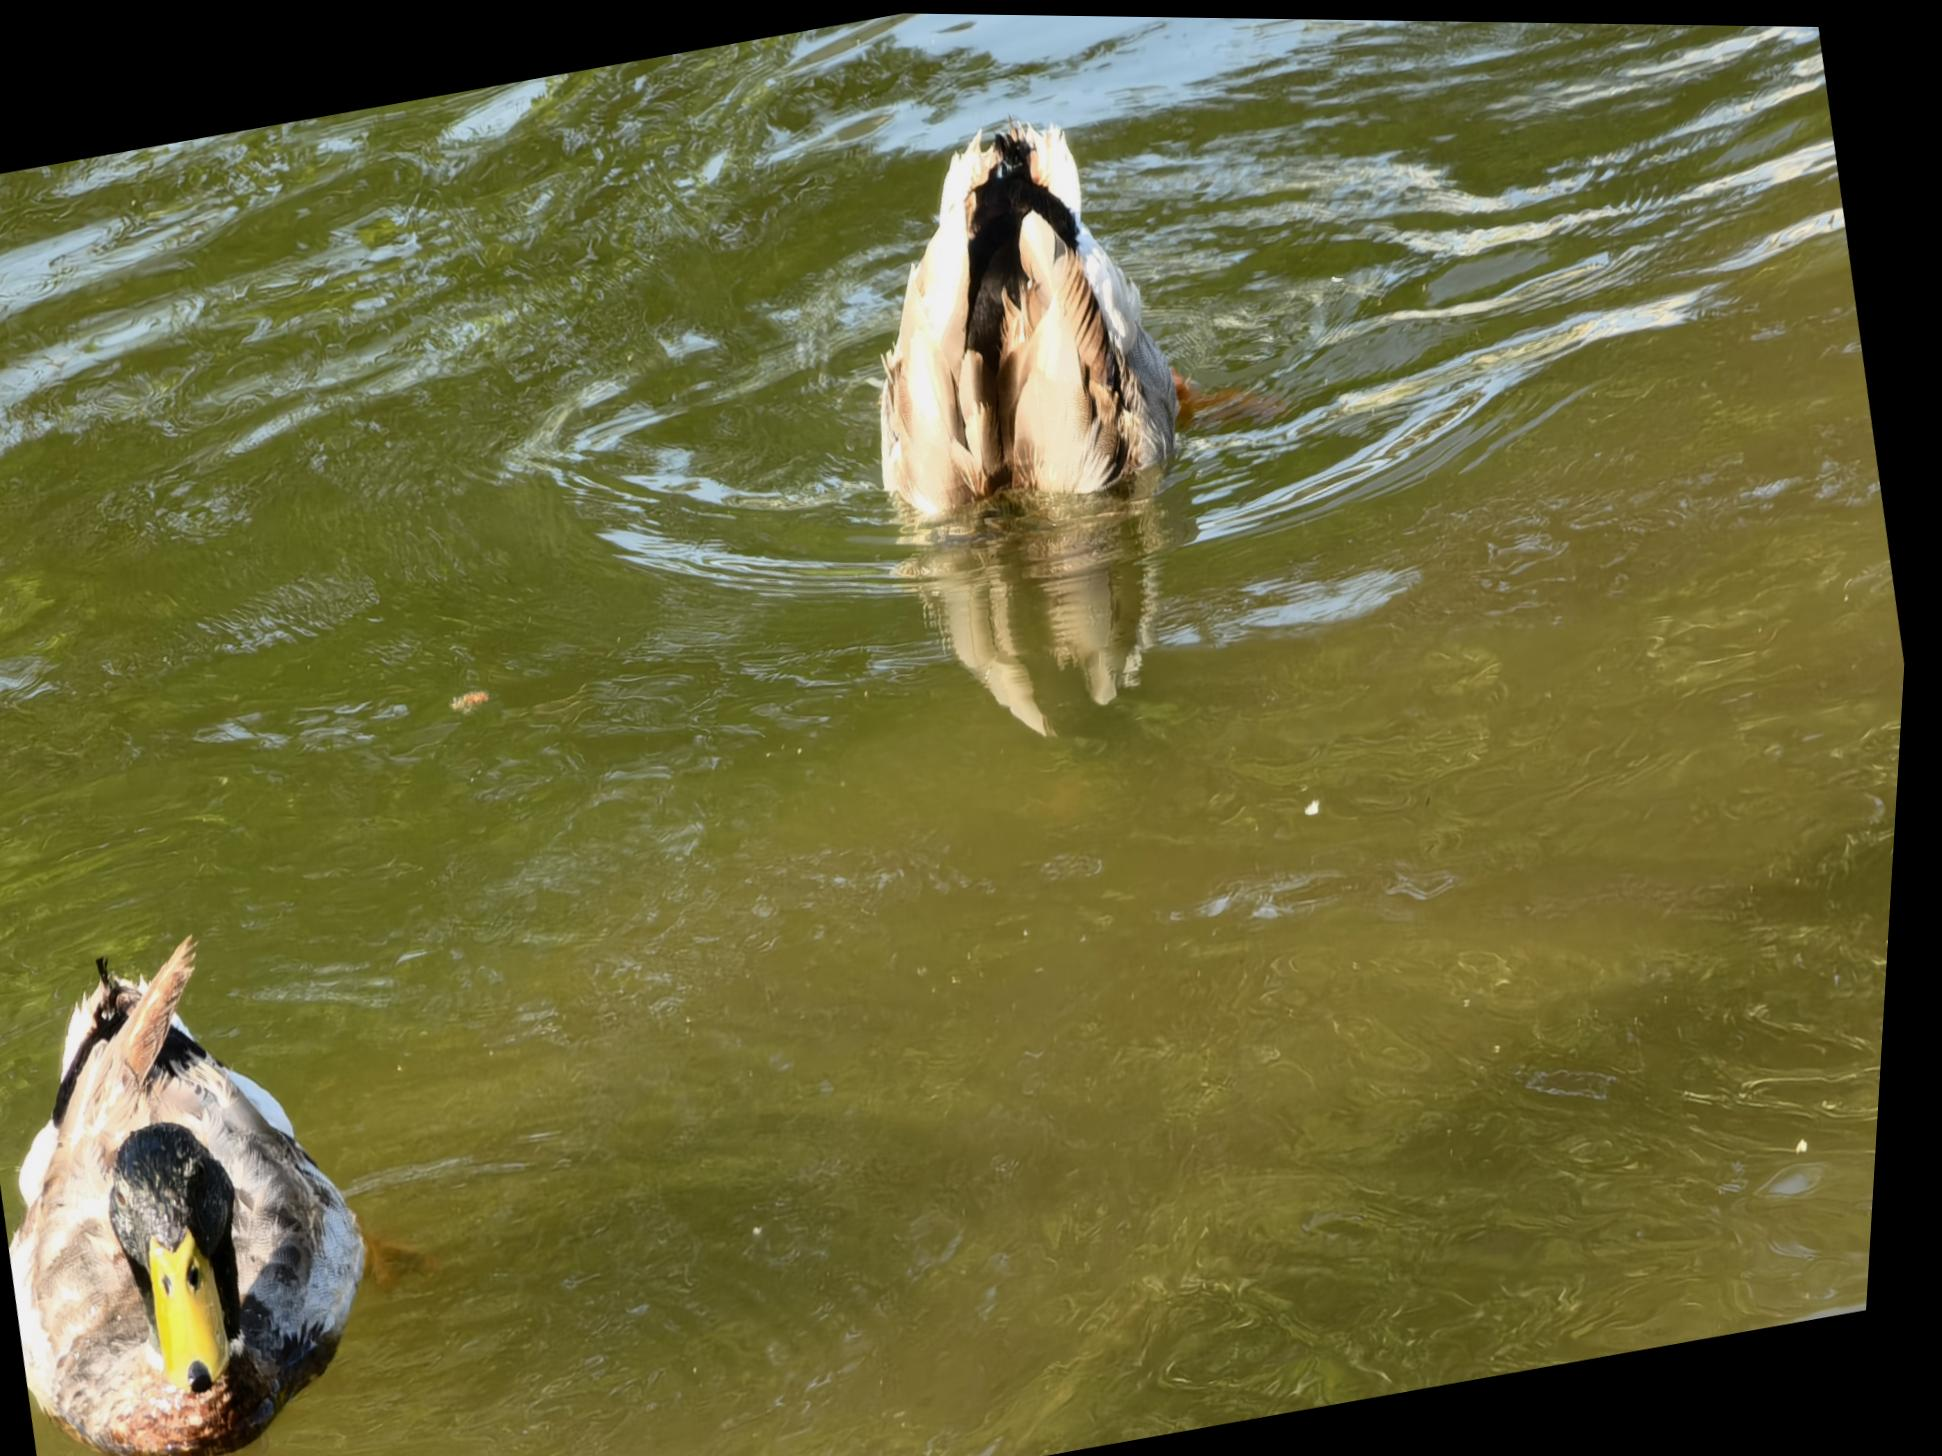duck: (0, 902, 434, 1456), (823, 89, 1275, 577)
